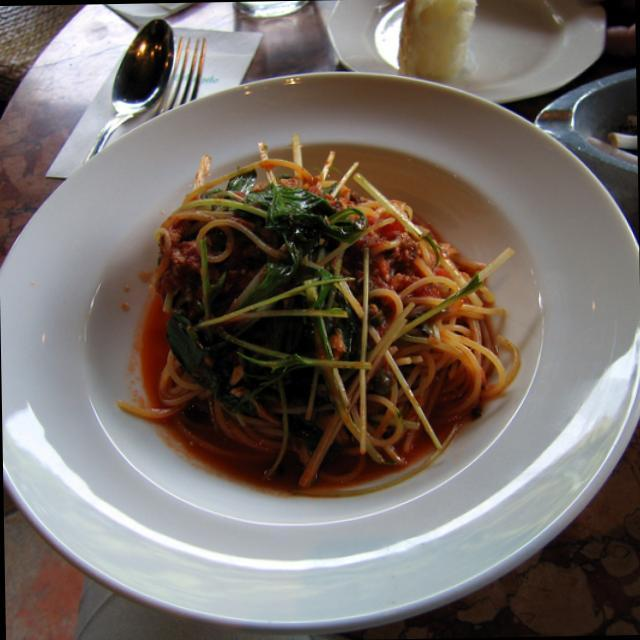Pasta: (145, 140, 515, 482)
